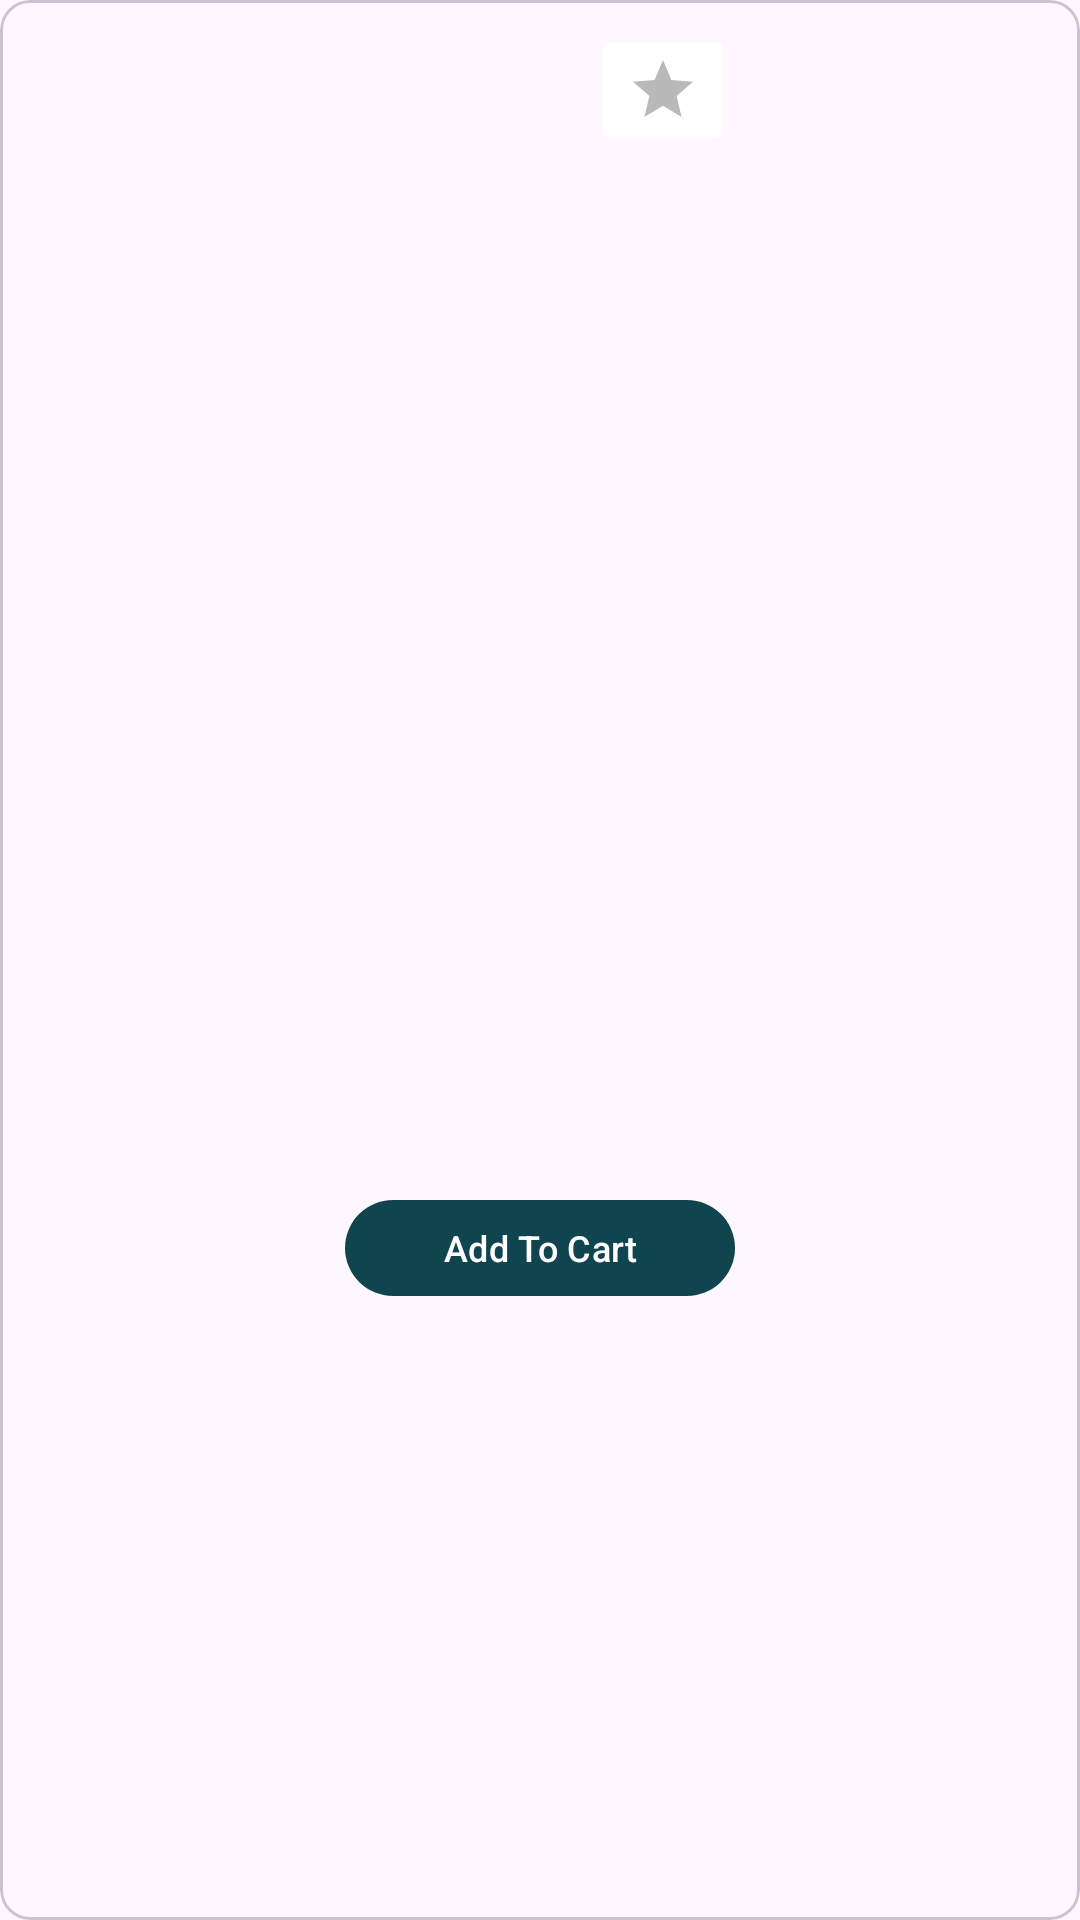

Named icons in this screenshot (1080 × 1920) and their bounding boxes, (x1, y1, x2, y2):
Favorite: (634, 61, 692, 117)
